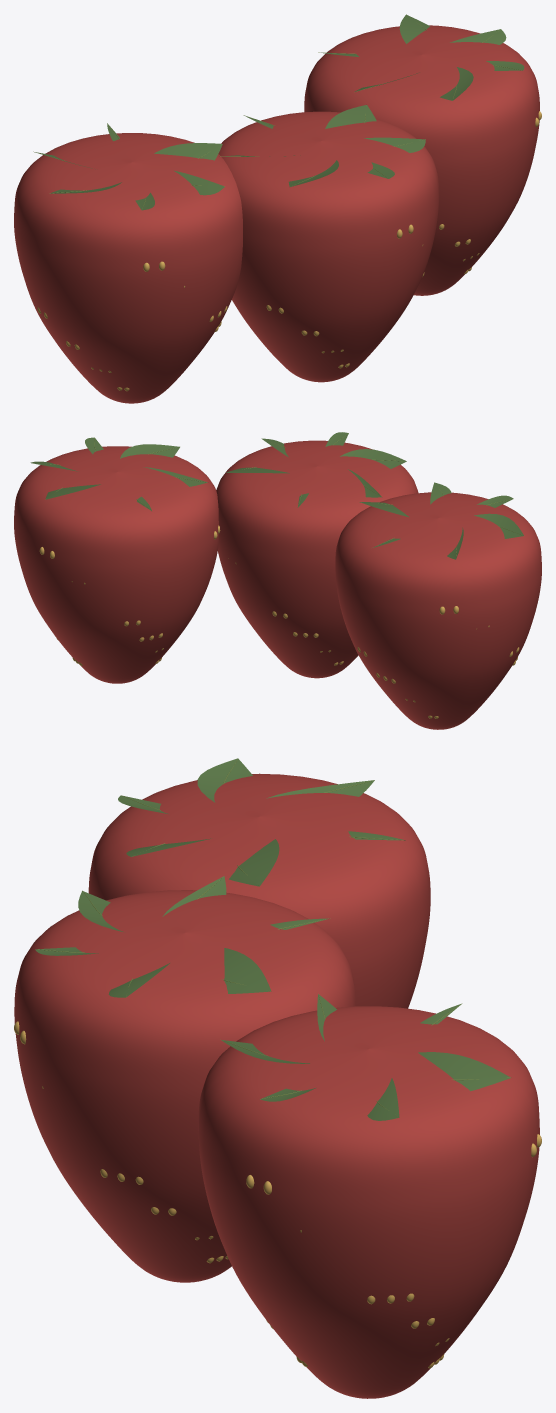
Rendered from props_p7__p7_strawberry.glb.
The picture shows the model from 3 angles, top to bottom: view 1: azimuth 30°, elevation 25°; view 2: azimuth 150°, elevation 25°; view 3: azimuth 270°, elevation 25°; orthographic projection. The views are drawn at different scales.
Parts seen in each view (by area): view 1: reference_static_surfaces (×2), calyx_0 (×3), calyx_1 (×3); view 2: reference_static_surfaces (×2), calyx_3 (×3); view 3: reference_static_surfaces (×2), calyx_0 (×3), calyx_3 (×2), calyx_4, calyx_1.
Boxes of the visible parts, bbox=[...] form: reference_static_surfaces (×2): bbox=[14, 25, 541, 403]; calyx_0 (×3): bbox=[154, 14, 430, 160]; calyx_1 (×3): bbox=[174, 29, 506, 195]; reference_static_surfaces (×2): bbox=[14, 440, 541, 729]; calyx_3 (×3): bbox=[120, 444, 523, 538]; reference_static_surfaces (×2): bbox=[14, 773, 541, 1398]; calyx_0 (×3): bbox=[224, 839, 510, 1091]; calyx_3 (×2): bbox=[78, 758, 252, 931]; calyx_4: bbox=[266, 780, 374, 798]; calyx_1: bbox=[367, 1078, 399, 1120].
Bounding box in the file's own units: 0.0956 × 0.0406 × 0.0566.
